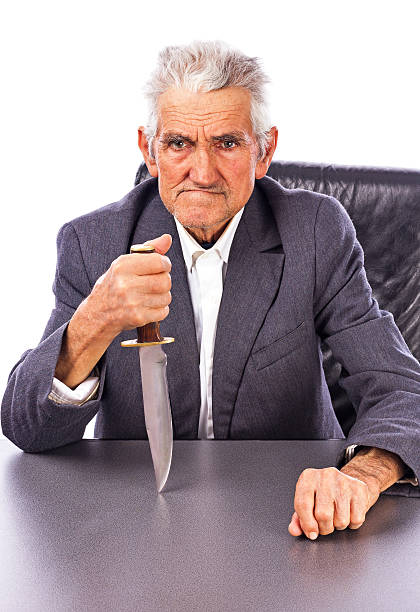knife: (118, 242, 178, 495)
